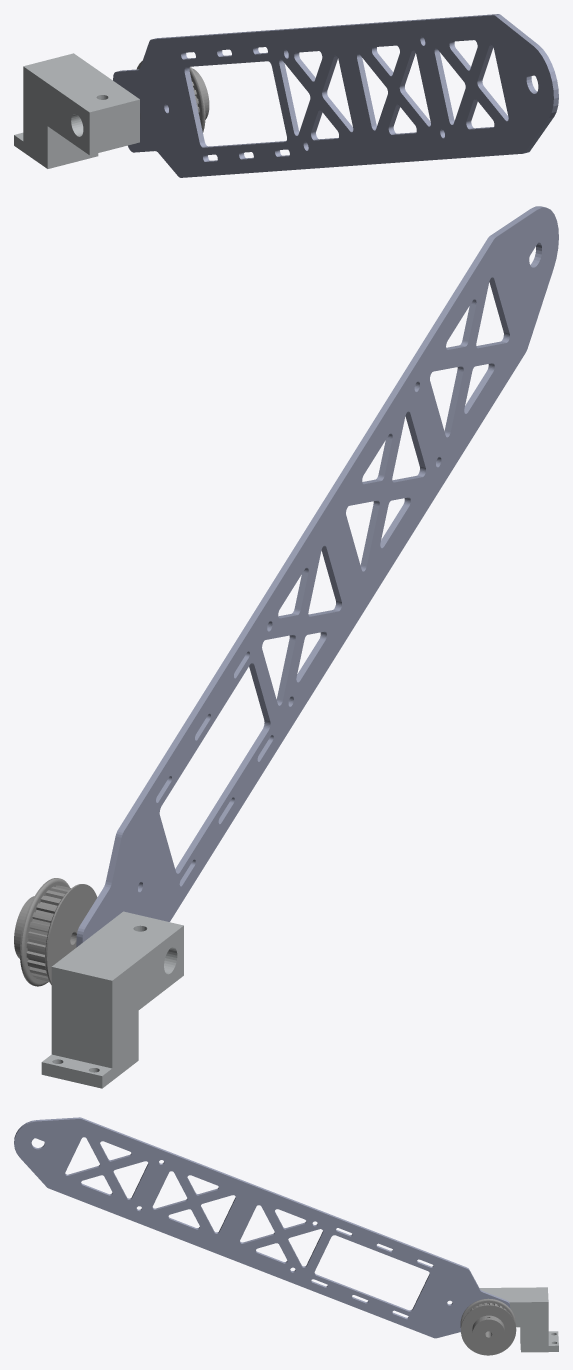
The model's file is ENDPART.obj.
3 views of the same model, one above another, from view 1: azimuth 30°, elevation 25°; view 2: azimuth 150°, elevation 25°; view 3: azimuth 270°, elevation 25° (orthographic). The views are drawn at different scales.
Parts seen in each view (by area): view 1: Shape_IndexedFaceSet.007, Shape_IndexedFaceSet, Shape_IndexedFaceSet.008; view 2: Shape_IndexedFaceSet.007, Shape_IndexedFaceSet, Shape_IndexedFaceSet.008; view 3: Shape_IndexedFaceSet.007, Shape_IndexedFaceSet, Shape_IndexedFaceSet.008.
Part boxes in pixels (x1,y1,x2,y2): Shape_IndexedFaceSet.007: [113, 14, 558, 177]; Shape_IndexedFaceSet: [14, 53, 139, 168]; Shape_IndexedFaceSet.008: [137, 61, 209, 132]; Shape_IndexedFaceSet.007: [76, 206, 558, 947]; Shape_IndexedFaceSet: [41, 911, 183, 1088]; Shape_IndexedFaceSet.008: [14, 878, 97, 986]; Shape_IndexedFaceSet.007: [14, 1117, 510, 1338]; Shape_IndexedFaceSet: [479, 1287, 558, 1352]; Shape_IndexedFaceSet.008: [460, 1298, 516, 1355].
Size of the model in its own units: 0.628 by 2.02 by 4.16.
